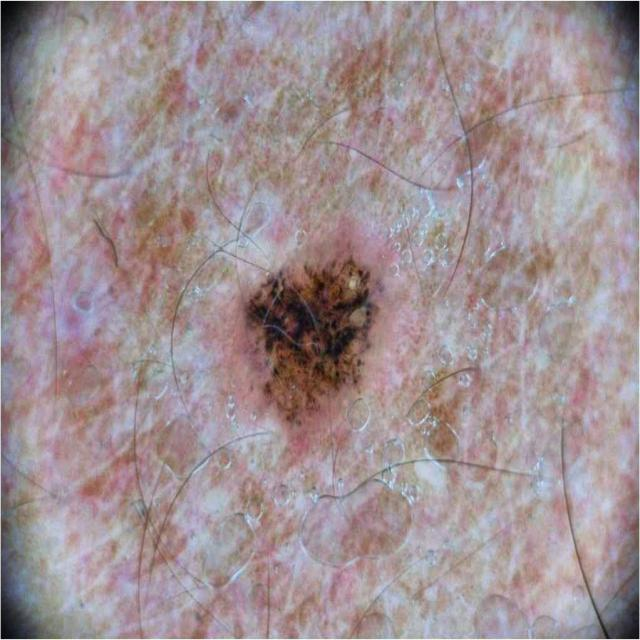Melanocytic-Nevi-NV-: (246, 256, 372, 418)
